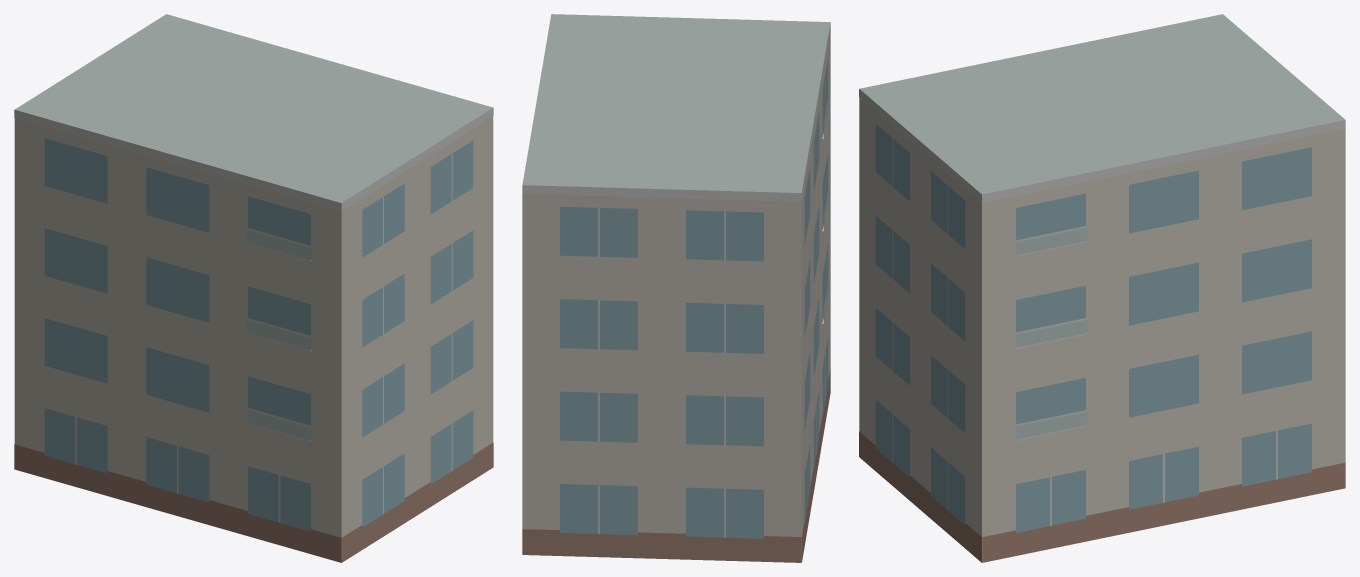
The model's file is survey-upis-32741615.glb.
3 renders of one model, left to right at view 1: azimuth 30°, elevation 25°; view 2: azimuth 150°, elevation 25°; view 3: azimuth 270°, elevation 25°, orthographic. The views are drawn at different scales.
Visible parts, largest first — view 1: survey-upis-32741615.tmp; view 2: survey-upis-32741615.tmp; view 3: survey-upis-32741615.tmp.
Part boxes in pixels (x1,y1,x2,y2): survey-upis-32741615.tmp: [14, 14, 493, 562]; survey-upis-32741615.tmp: [522, 14, 830, 562]; survey-upis-32741615.tmp: [859, 14, 1345, 562].
Bounding box in the file's own units: 10.94 × 10.4 × 12.46.
